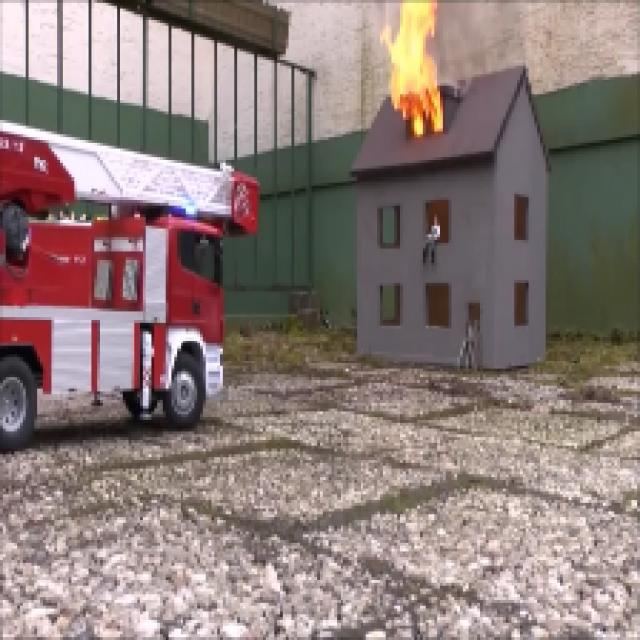fire: (380, 3, 450, 131)
